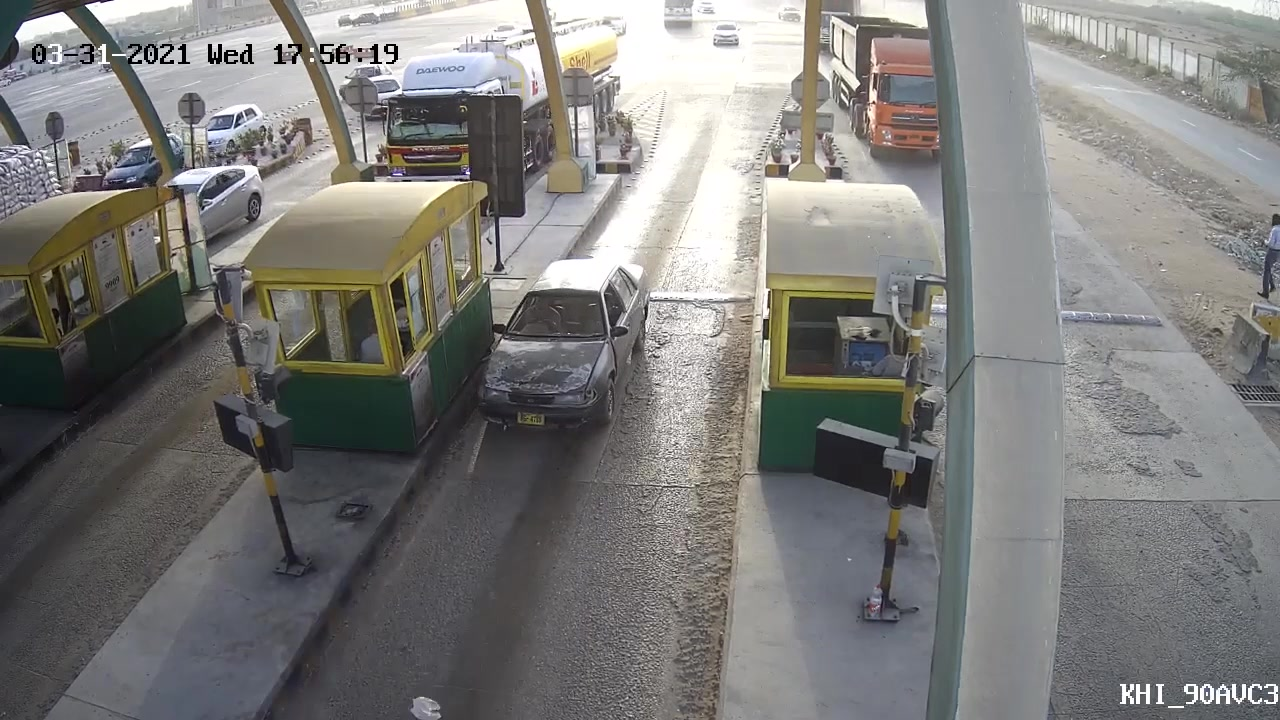F1: (478, 255, 655, 433)
